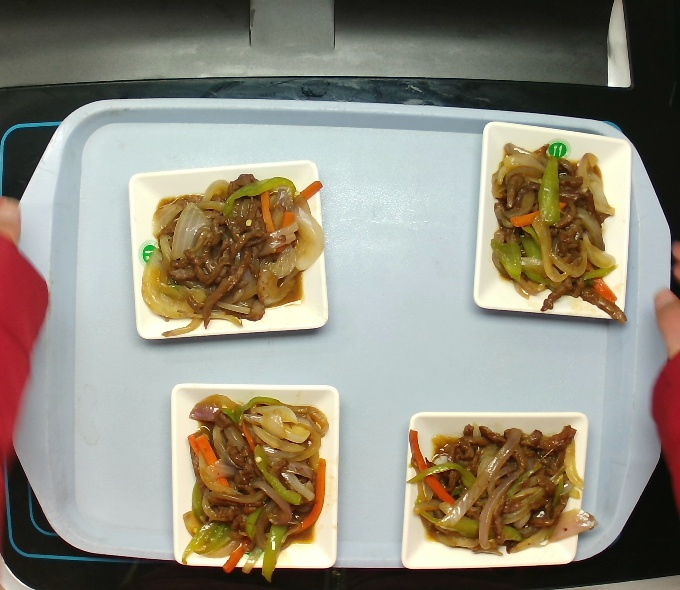wcq-NiuYangCongNiuLiu: (137, 161, 323, 336), (173, 387, 328, 582), (483, 138, 633, 313), (420, 415, 585, 552)
